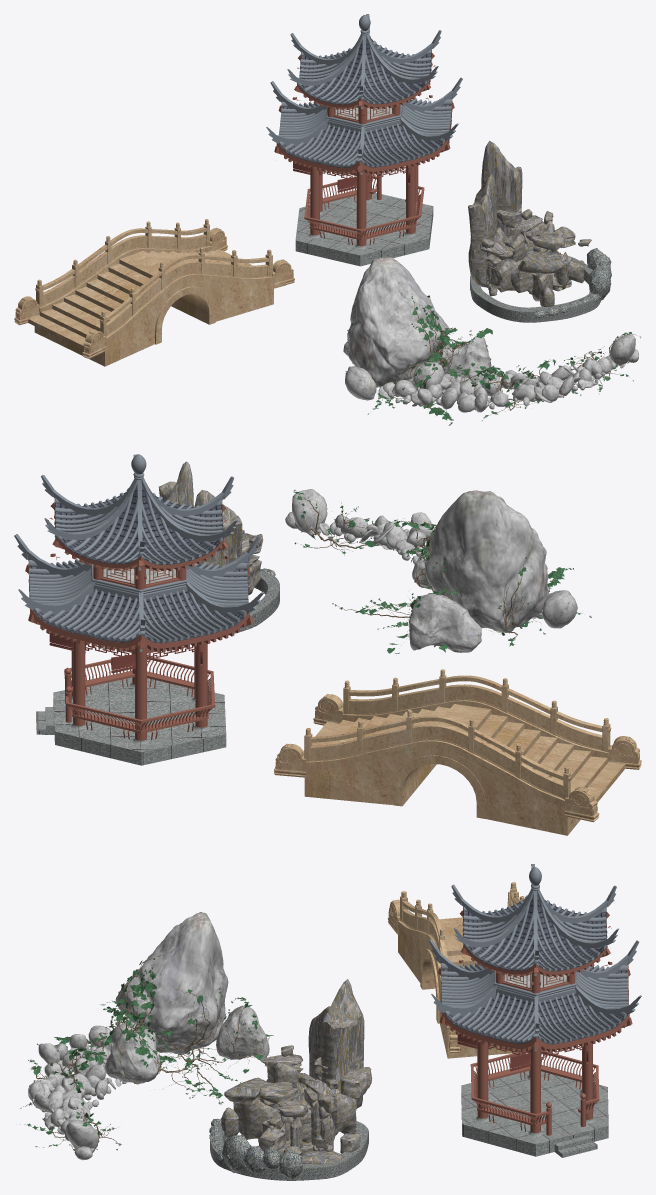
The model's file is 公园景观.glb.
3 views of the same model, one above another, from view 1: azimuth 30°, elevation 25°; view 2: azimuth 150°, elevation 25°; view 3: azimuth 270°, elevation 25° (orthographic). The views are drawn at different scales.
Visible parts, largest first — view 1: 公园景观_primitive20, 公园景观_primitive0, 公园景观_primitive5, 公园景观_primitive16, 公园景观_primitive6, 公园景观_primitive15, 公园景观_primitive19, 公园景观_primitive18, 公园景观_primitive7, 公园景观_primitive1, 公园景观_primitive4, 公园景观_primitive12 (+3 smaller); view 2: 公园景观_primitive20, 公园景观_primitive5, 公园景观_primitive16, 公园景观_primitive15, 公园景观_primitive19, 公园景观_primitive18, 公园景观_primitive7, 公园景观_primitive6, 公园景观_primitive12, 公园景观_primitive0, 公园景观_primitive11, 公园景观_primitive4 (+4 smaller); view 3: 公园景观_primitive0, 公园景观_primitive5, 公园景观_primitive16, 公园景观_primitive15, 公园景观_primitive19, 公园景观_primitive6, 公园景观_primitive18, 公园景观_primitive20, 公园景观_primitive7, 公园景观_primitive1, 公园景观_primitive4, 公园景观_primitive3 (+4 smaller).
Part boxes in pixels (x1=…): 公园景观_primitive20: x1=14, y1=219, x2=294, y2=366; 公园景观_primitive0: x1=468, y1=140, x2=591, y2=306; 公园景观_primitive5: x1=343, y1=257, x2=491, y2=386; 公园景观_primitive16: x1=266, y1=14, x2=462, y2=161; 公园景观_primitive6: x1=345, y1=334, x2=638, y2=412; 公园景观_primitive15: x1=295, y1=192, x2=433, y2=266; 公园景观_primitive19: x1=278, y1=98, x2=452, y2=167; 公园景观_primitive18: x1=278, y1=38, x2=452, y2=167; 公园景观_primitive7: x1=274, y1=53, x2=454, y2=238; 公园景观_primitive1: x1=470, y1=248, x2=611, y2=322; 公园景观_primitive4: x1=345, y1=295, x2=640, y2=425; 公园景观_primitive12: x1=310, y1=103, x2=418, y2=246; 公园景观_primitive20: x1=274, y1=669, x2=641, y2=835; 公园景观_primitive5: x1=409, y1=490, x2=548, y2=652; 公园景观_primitive16: x1=14, y1=454, x2=264, y2=635; 公园景观_primitive15: x1=36, y1=677, x2=226, y2=765; 公园景观_primitive19: x1=29, y1=559, x2=248, y2=642; 公园景观_primitive18: x1=29, y1=484, x2=249, y2=643; 公园景观_primitive7: x1=25, y1=502, x2=253, y2=730; 公园景观_primitive6: x1=285, y1=489, x2=577, y2=628; 公园景观_primitive12: x1=71, y1=564, x2=207, y2=740; 公园景观_primitive0: x1=158, y1=461, x2=263, y2=595; 公园景观_primitive11: x1=64, y1=655, x2=215, y2=739; 公园景观_primitive4: x1=293, y1=490, x2=591, y2=653; 公园景观_primitive0: x1=221, y1=979, x2=372, y2=1164; 公园景观_primitive5: x1=104, y1=912, x2=269, y2=1083; 公园景观_primitive16: x1=428, y1=864, x2=641, y2=1037; 公园景观_primitive15: x1=461, y1=1071, x2=608, y2=1157; 公园景观_primitive19: x1=441, y1=962, x2=628, y2=1043; 公园景观_primitive6: x1=28, y1=1023, x2=138, y2=1160; 公园景观_primitive18: x1=441, y1=894, x2=628, y2=1044; 公园景观_primitive20: x1=388, y1=882, x2=524, y2=1058; 公园景观_primitive7: x1=438, y1=910, x2=632, y2=1135; 公园景观_primitive1: x1=209, y1=1118, x2=368, y2=1180; 公园景观_primitive4: x1=20, y1=955, x2=273, y2=1150; 公园景观_primitive3: x1=23, y1=956, x2=270, y2=1150.
Size of the model in its own units: 21.69 by 9.81 by 20.97.
21 materials, 12 textured.
